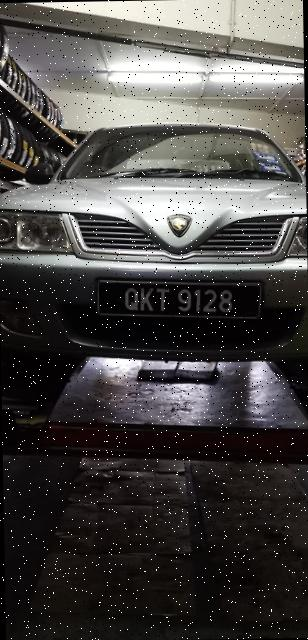License_Plate: (102, 280, 262, 323)
car: (1, 107, 308, 393)
